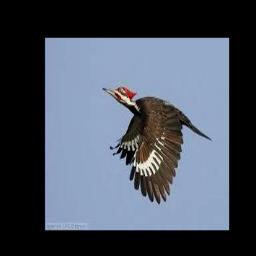Woodpecker: (103, 86, 212, 204)
